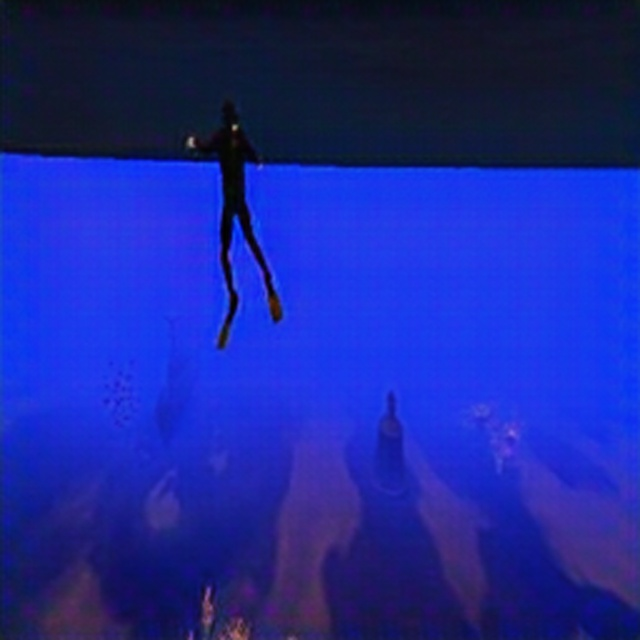diver: (185, 98, 283, 336)
